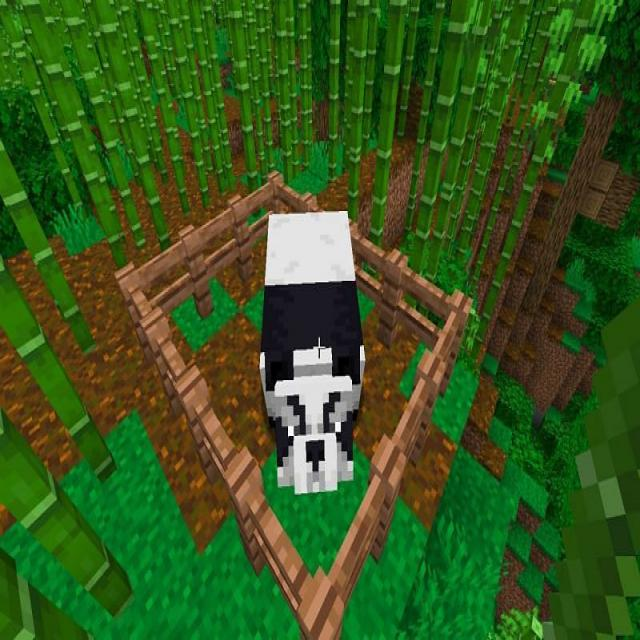Panda: (260, 207, 366, 497)
